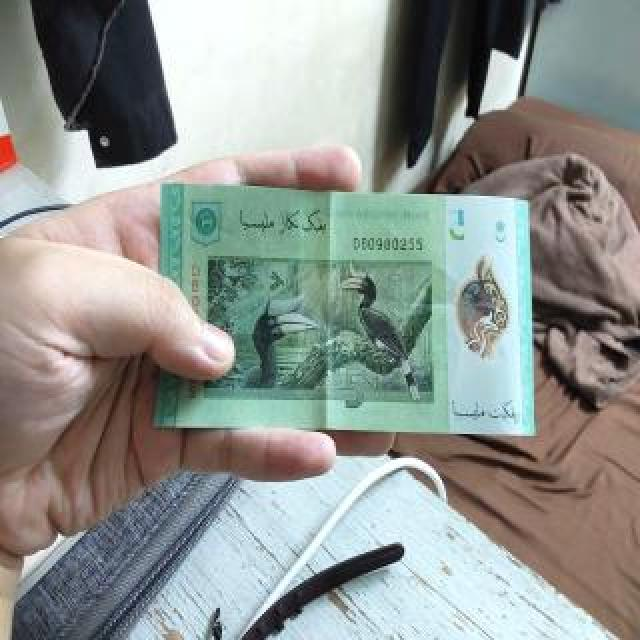5 Ringgit: (166, 188, 545, 430)
